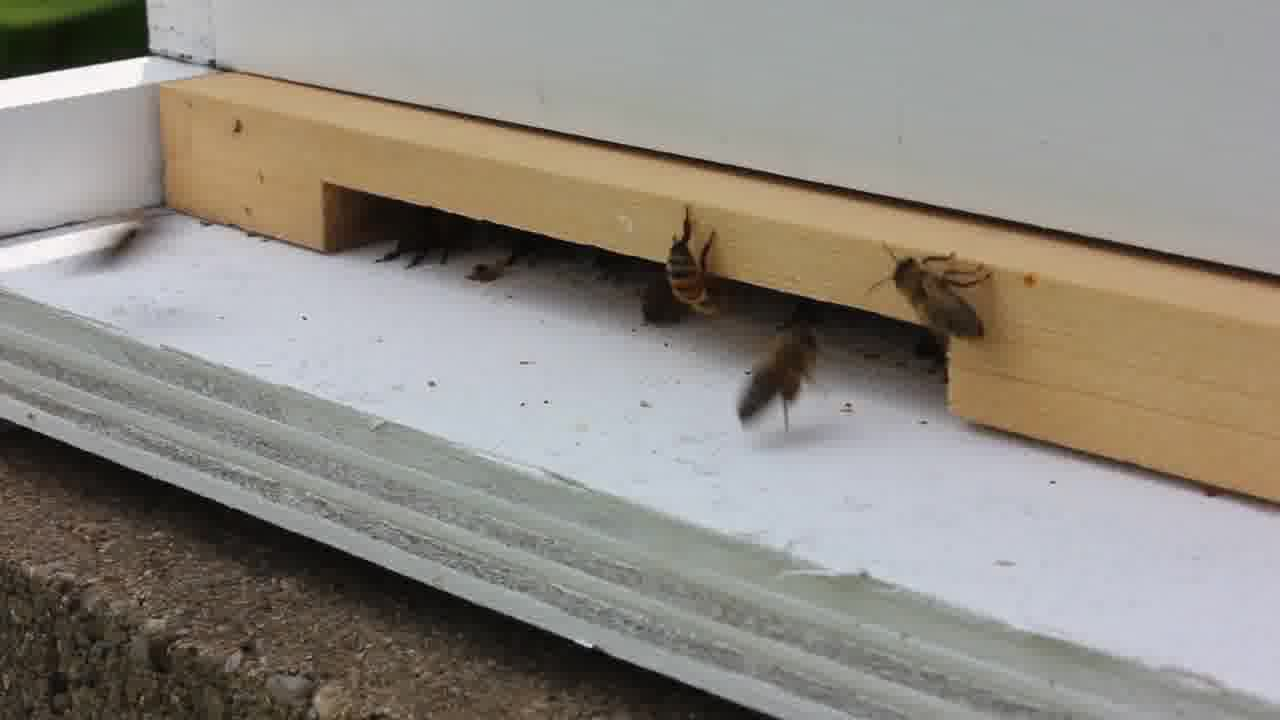pollen: (735, 324, 823, 432)
